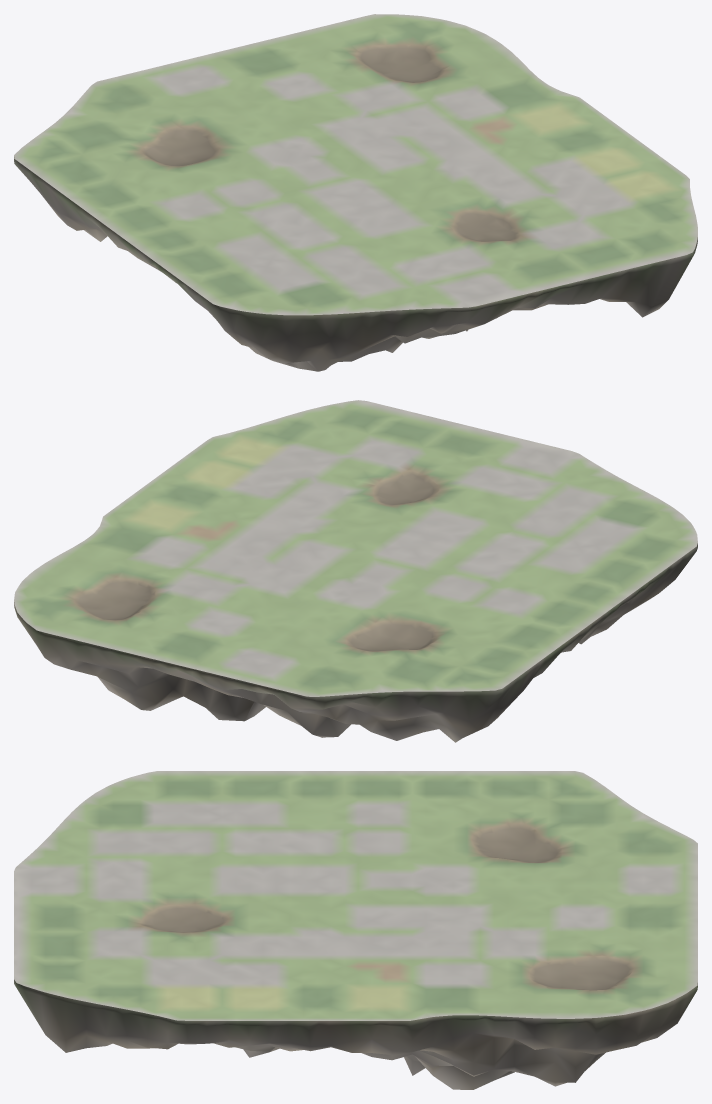
The model's file is SKY-008.rock.glb.
The picture shows the model from 3 angles, top to bottom: view 1: azimuth 30°, elevation 25°; view 2: azimuth 150°, elevation 25°; view 3: azimuth 270°, elevation 25°; orthographic projection. The views are drawn at different scales.
Visible parts, largest first — view 1: deck-col, rock; view 2: deck-col, rock; view 3: deck-col, rock.
Part boxes in pixels (x1=…): deck-col: x1=14, y1=14, x2=697, y2=315; rock: x1=14, y1=157, x2=697, y2=371; deck-col: x1=14, y1=400, x2=697, y2=696; rock: x1=14, y1=543, x2=697, y2=742; deck-col: x1=14, y1=771, x2=697, y2=1020; rock: x1=14, y1=979, x2=697, y2=1089.
Size of the model in its own units: 174 by 55.14 by 201.
